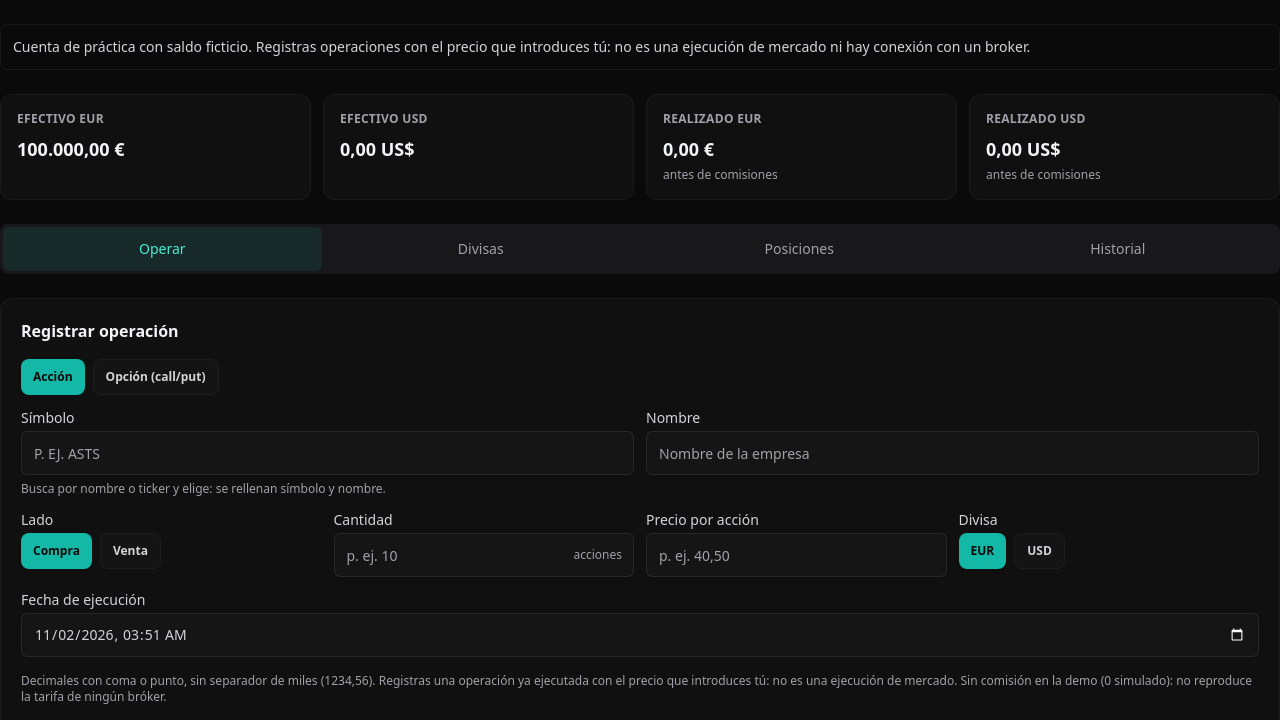
Scenario: ManualDemoPanel (cuenta demo manual) › «Siguiente» pide el bloque siguiente con el cursor y acumula sin duplicar filas
Press the mouse on the tab "Historial" at [1118, 249], box [958, 227, 1277, 271]
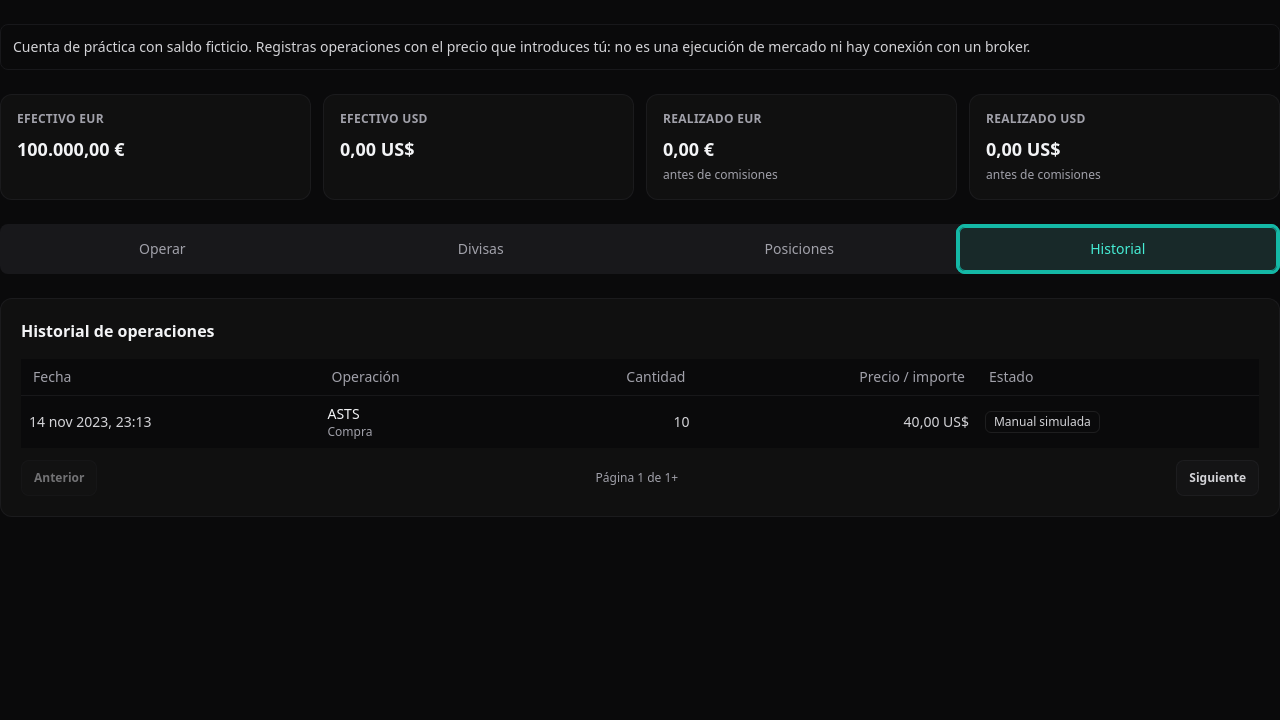
Click the button with aria-label "Página siguiente" at [1218, 478], box [1176, 460, 1259, 496]
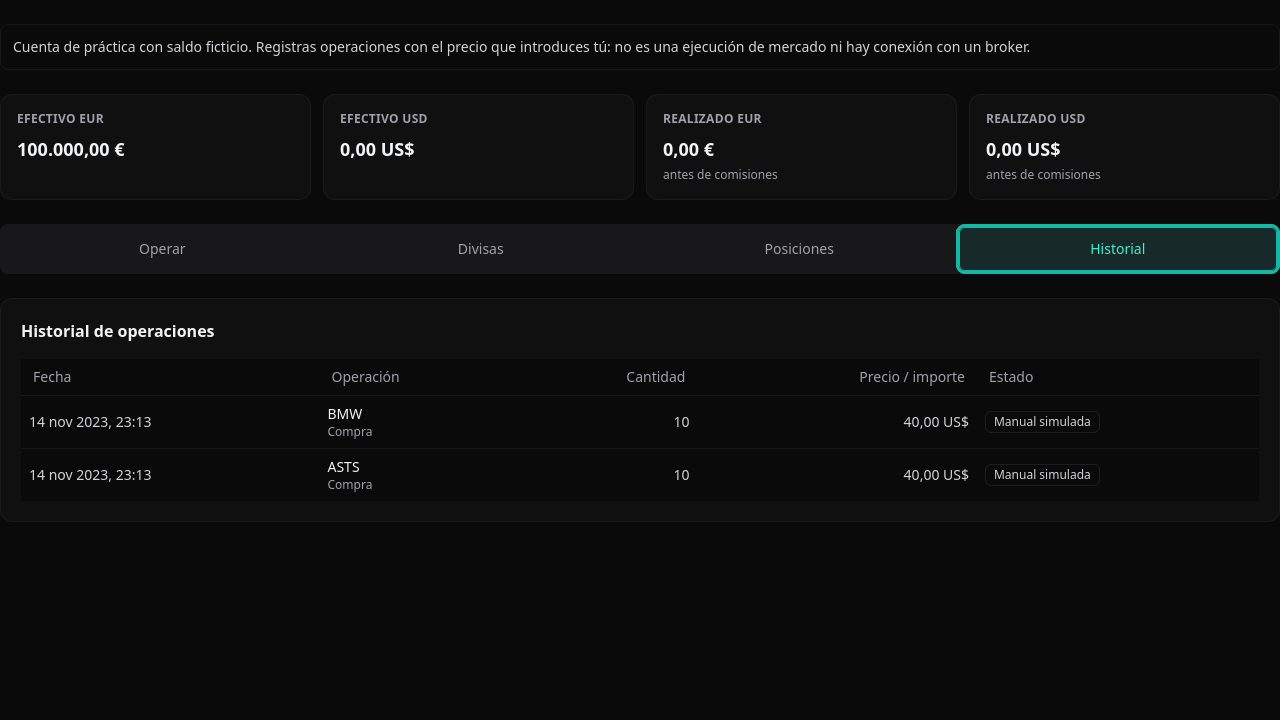
Expected: the text "BMW" is shown, [328, 404, 362, 423]
